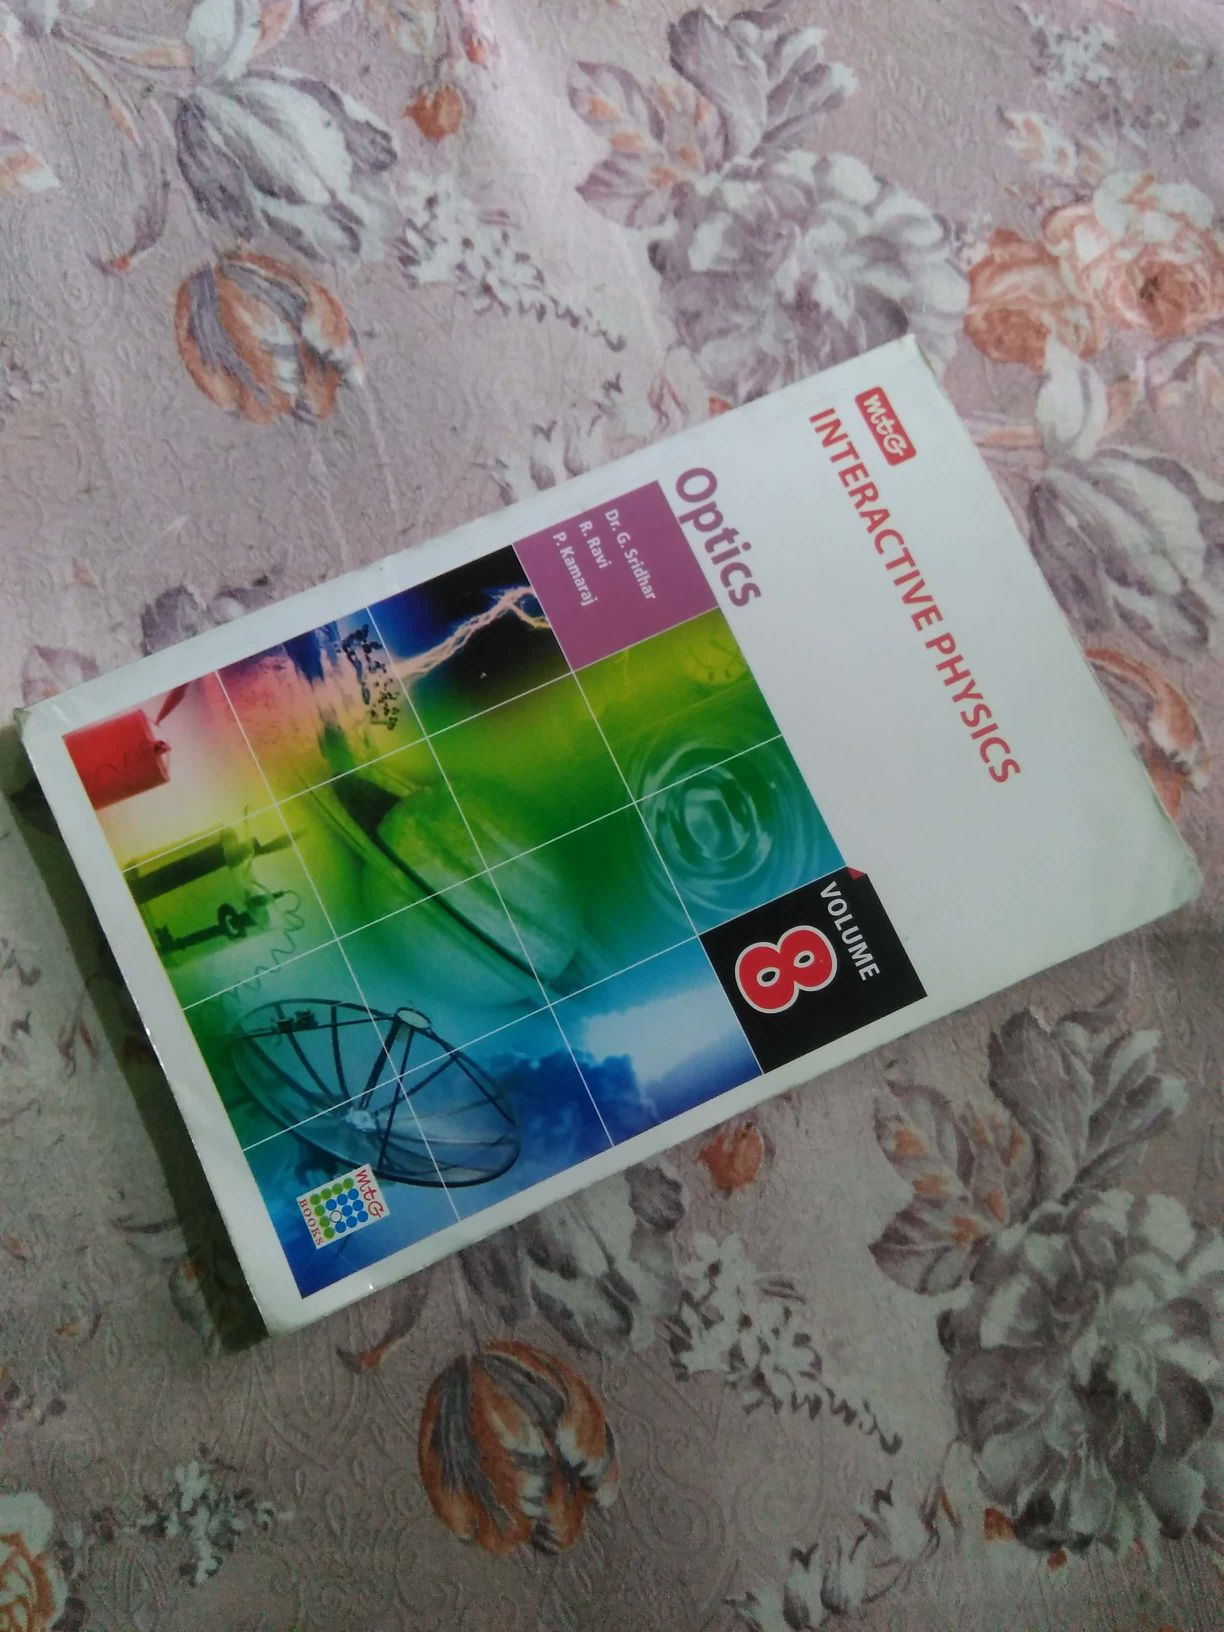optics: (120, 348, 1142, 1291)
